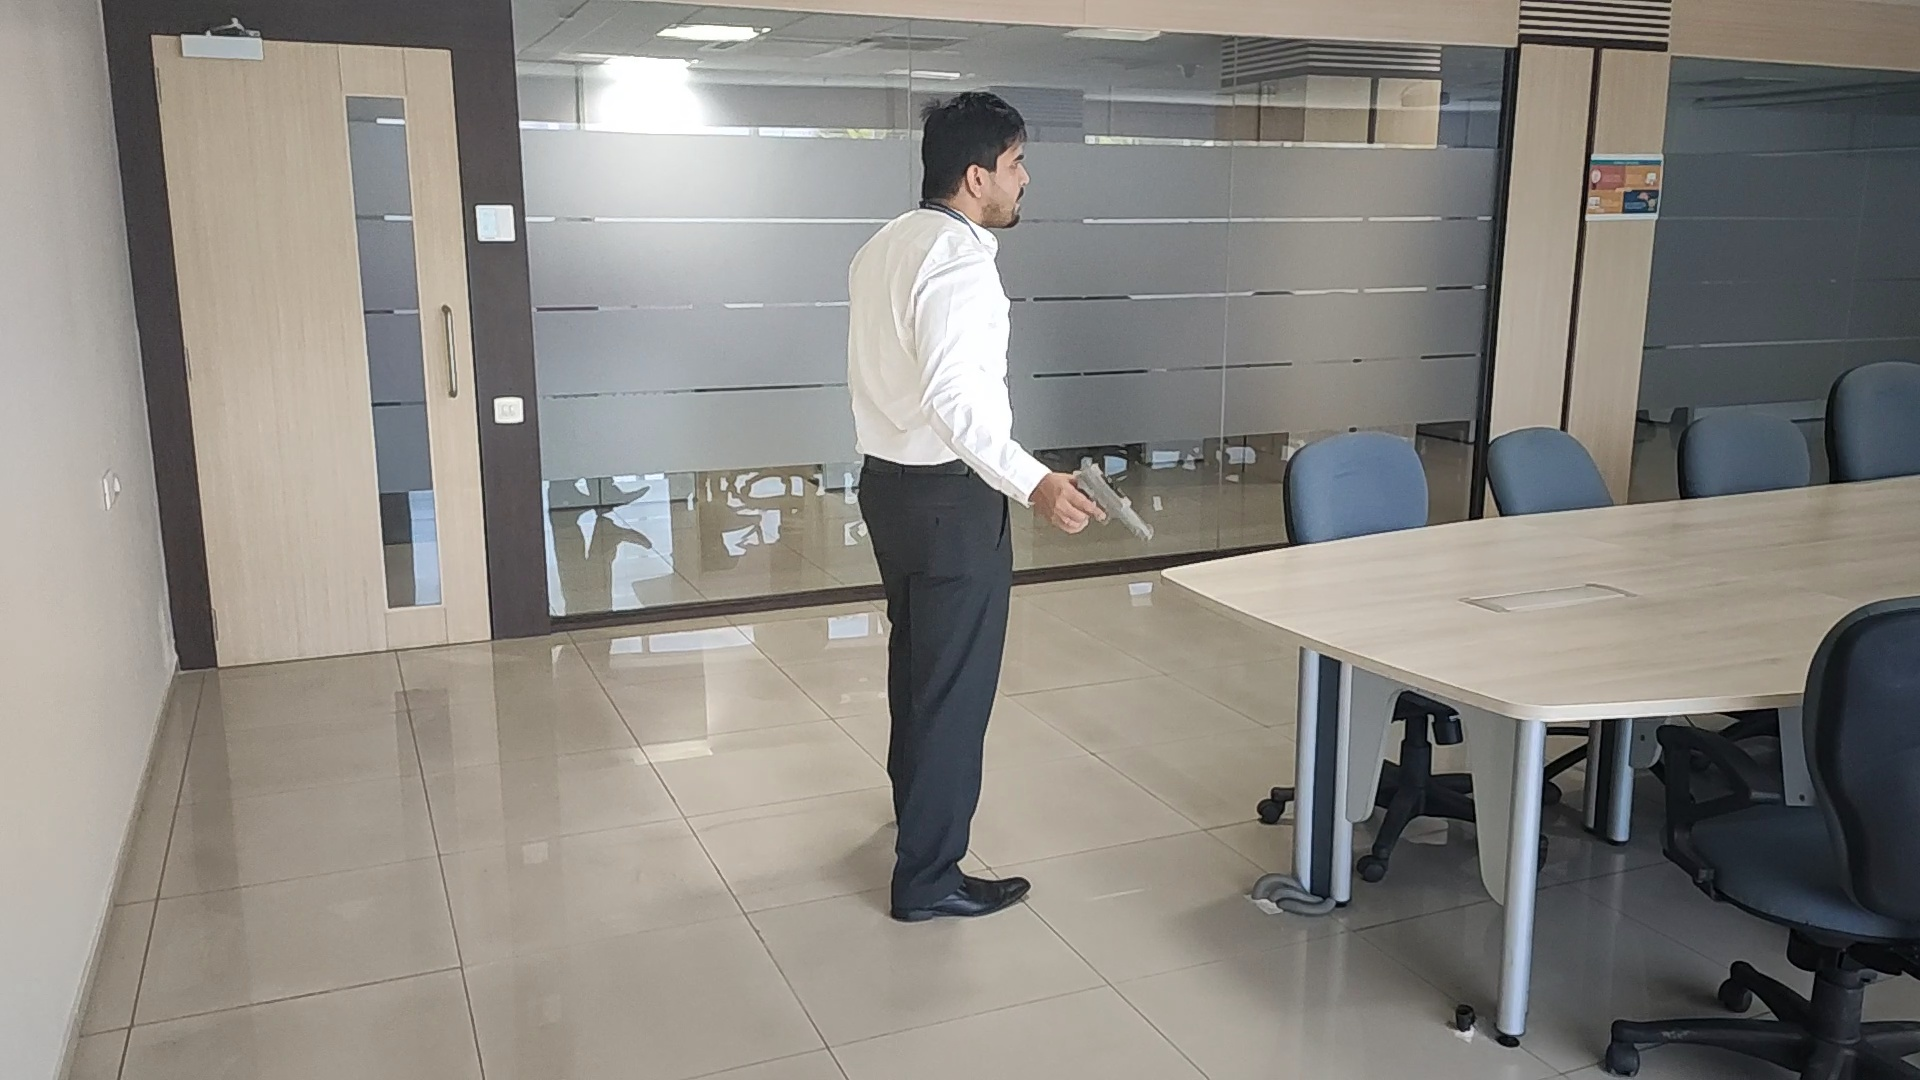gun: (1073, 458, 1156, 539)
